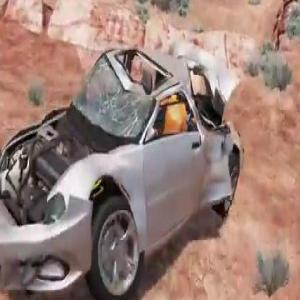serious: (0, 21, 243, 300)
